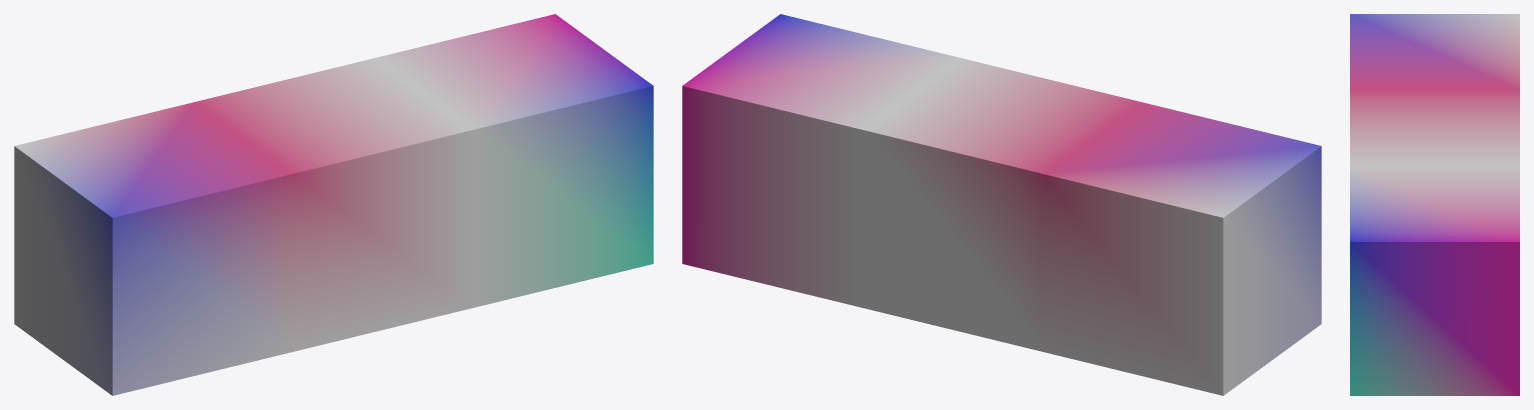
The model's file is newMatTest.fbx.
The picture shows the model from 3 angles, left to right: view 1: azimuth 30°, elevation 25°; view 2: azimuth 150°, elevation 25°; view 3: azimuth 270°, elevation 25°; orthographic projection. The views are drawn at different scales.
Visible parts, largest first — view 1: Cube; view 2: Cube; view 3: Cube.
Boxes of the visible parts, <box> form: Cube: <box>14,14,653,395</box>; Cube: <box>682,14,1321,395</box>; Cube: <box>1350,14,1519,395</box>.
Size of the model in its own units: 636 by 200 by 200.
